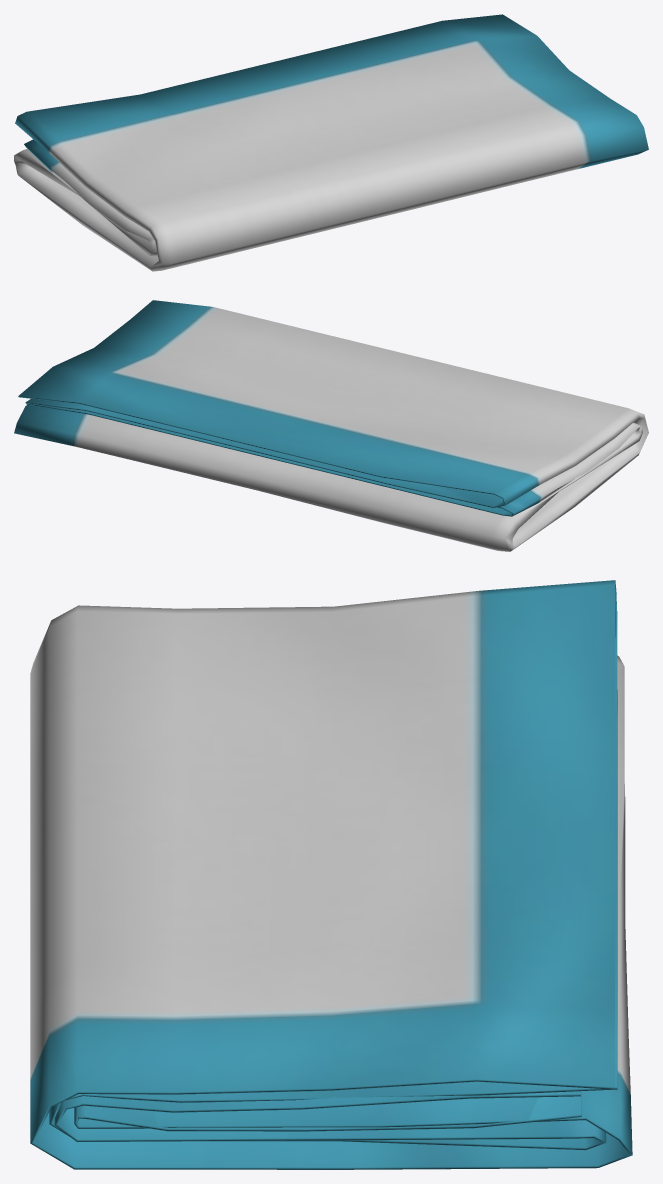
Rendered from cloth_02_folded.fbx.
3 views of the same model, one above another, from view 1: azimuth 30°, elevation 25°; view 2: azimuth 150°, elevation 25°; view 3: azimuth 270°, elevation 25° (orthographic). The views are drawn at different scales.
Visible parts, largest first — view 1: cloth_02_folded; view 2: cloth_02_folded; view 3: cloth_02_folded.
Boxes of the visible parts, left/top/right/bottom form: cloth_02_folded: left=14, top=14, right=648, bottom=271; cloth_02_folded: left=14, top=300, right=648, bottom=551; cloth_02_folded: left=30, top=580, right=632, bottom=1169.
Bounding box in the file's own units: 0.2672 × 0.0319 × 0.1417.
